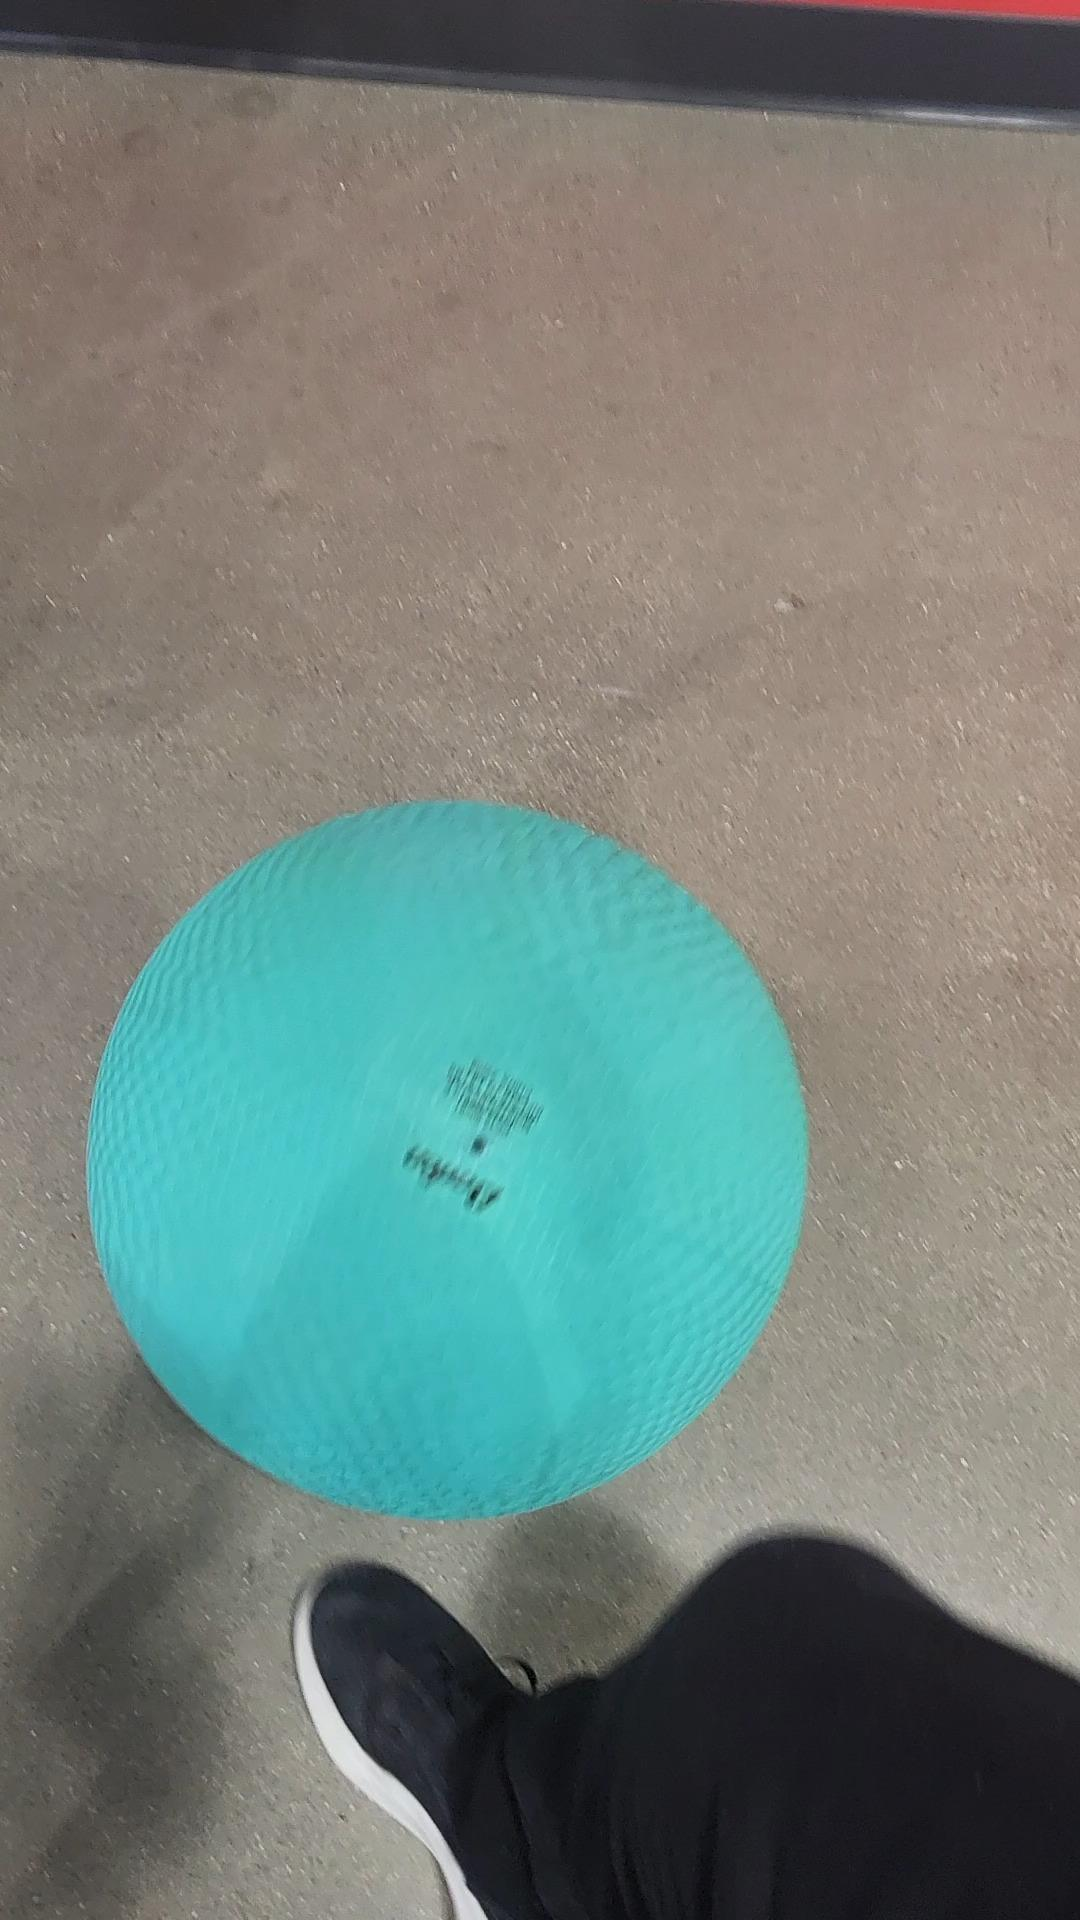algae: (91, 819, 798, 1526)
